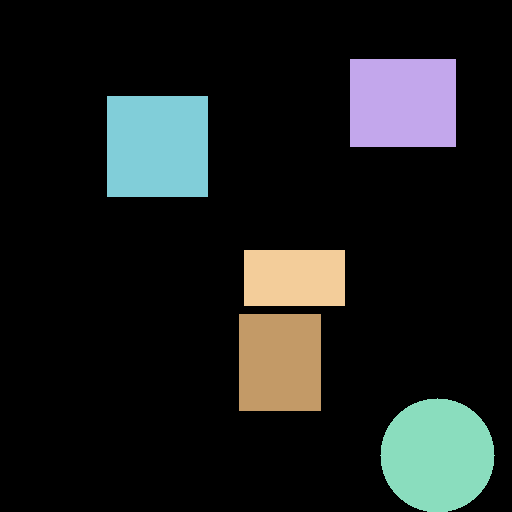circle: (381, 399, 493, 511)
rectangle: (350, 59, 455, 146), (239, 314, 320, 410), (244, 250, 344, 305)
square: (107, 96, 207, 196)
